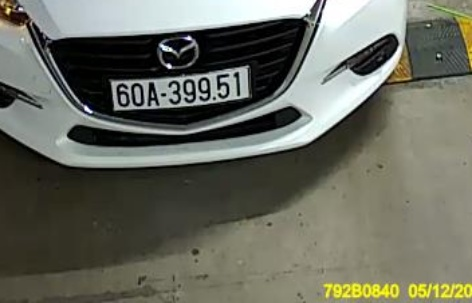plate: (106, 65, 266, 116)
